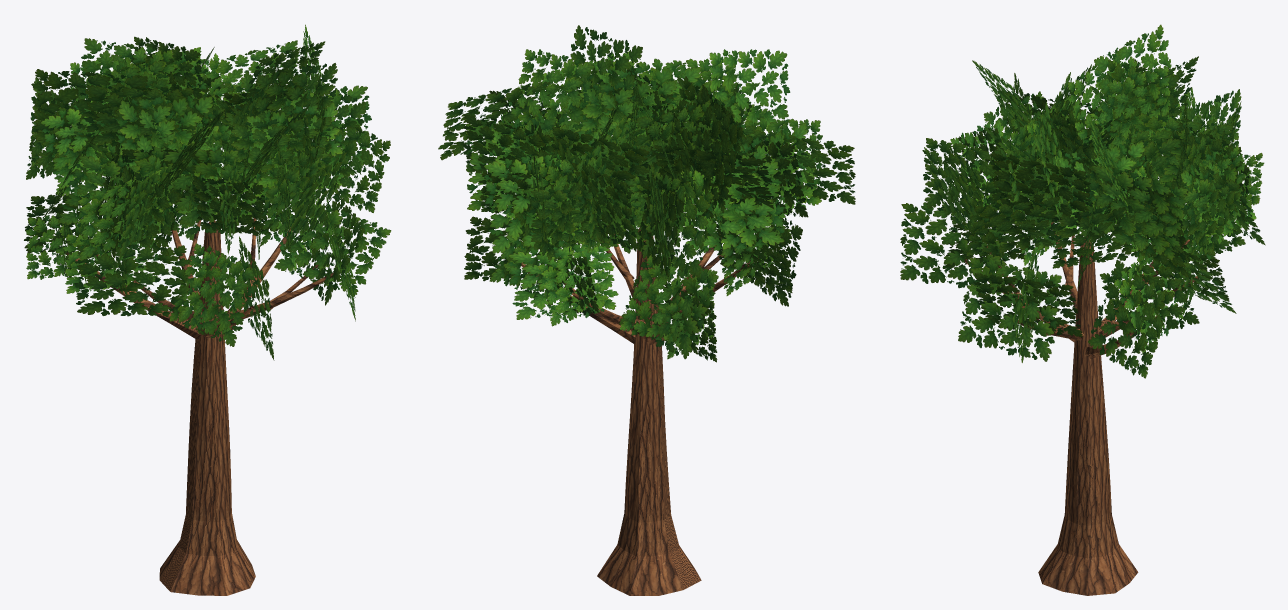
The model's file is OakTree.glb.
The picture shows the model from 3 angles, left to right: view 1: azimuth 30°, elevation 25°; view 2: azimuth 150°, elevation 25°; view 3: azimuth 270°, elevation 25°; orthographic projection. The views are drawn at different scales.
Parts seen in each view (by area): view 1: tree_oak; view 2: tree_oak; view 3: tree_oak.
Boxes of the visible parts, <box> form: tree_oak: <box>24,24,391,595</box>; tree_oak: <box>438,25,855,595</box>; tree_oak: <box>900,24,1265,595</box>.
Bounding box in the file's own units: 8.44 × 12.1 × 8.37.
2 materials, 2 textured.
